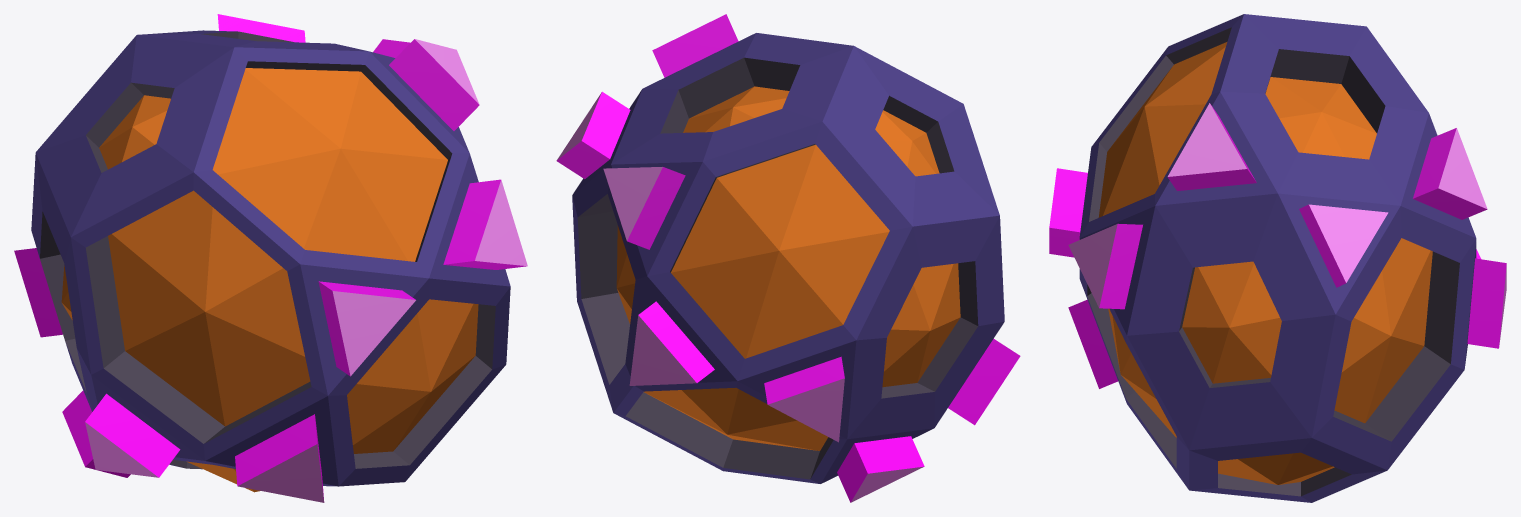
Rendered from Planet_02.glb.
3 renders of one model, left to right at view 1: azimuth 30°, elevation 25°; view 2: azimuth 150°, elevation 25°; view 3: azimuth 270°, elevation 25°, orthographic. The views are drawn at different scales.
Parts seen in each view (by area): view 1: Planet_02; view 2: Planet_02; view 3: Planet_02.
Boxes of the visible parts, bbox=[...] form: Planet_02: bbox=[14, 14, 527, 502]; Planet_02: bbox=[556, 14, 1020, 502]; Planet_02: bbox=[1049, 14, 1506, 502].
Size of what is drawn, in the model's own units: 3.95 by 4.03 by 3.8.
Materials: 1 (1 with a texture image).
